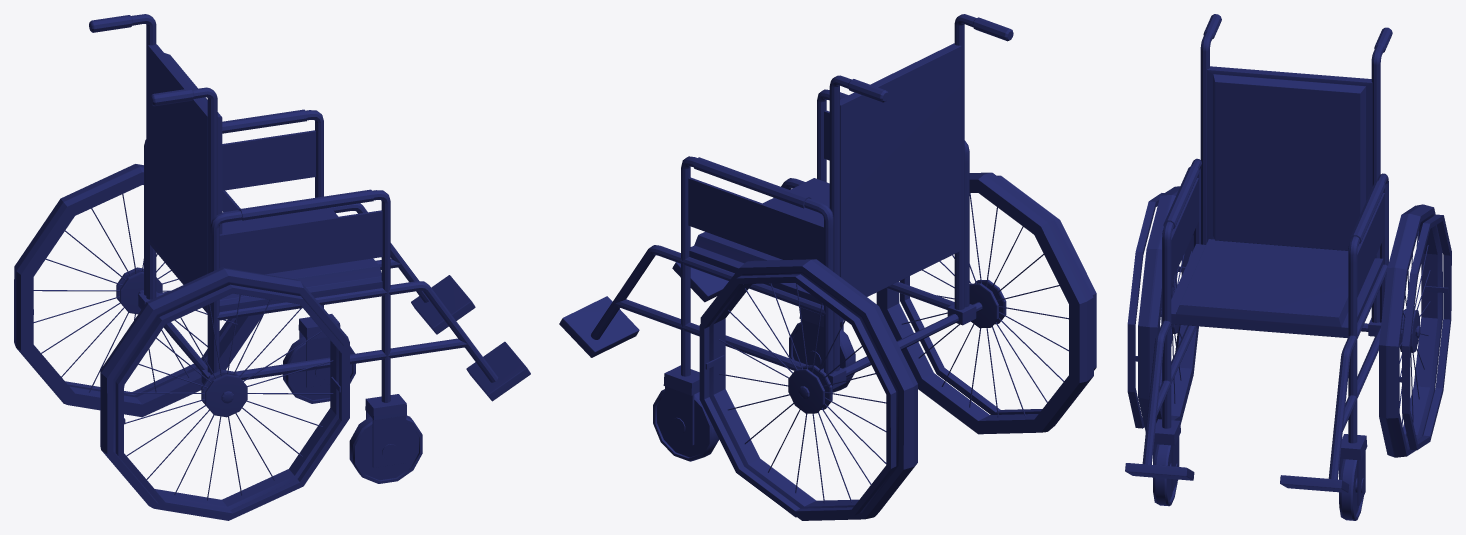
Rendered from Silla de ruedas para substance.fbx.
3 views of the same model, side by side, from view 1: azimuth 30°, elevation 25°; view 2: azimuth 150°, elevation 25°; view 3: azimuth 270°, elevation 25° (orthographic). The views are drawn at different scales.
Visible parts, largest first — view 1: wheelchair1; view 2: wheelchair1; view 3: wheelchair1.
Boxes of the visible parts, x1,y1,x2,y2 form: wheelchair1: (14,14,530,520); wheelchair1: (559,14,1096,520); wheelchair1: (1125,14,1451,520).
Size of the model in its own units: 86.22 by 79.92 by 60.15.
